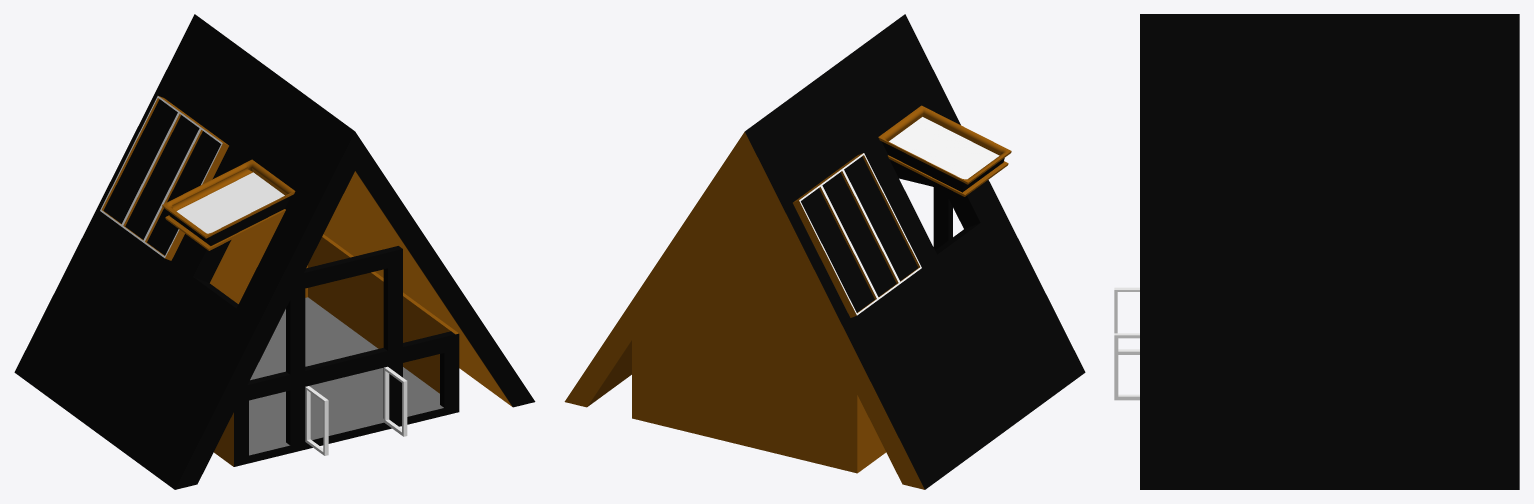
File: cabana.glb
3 renders of one model, left to right at view 1: azimuth 30°, elevation 25°; view 2: azimuth 150°, elevation 25°; view 3: azimuth 270°, elevation 25°, orthographic. The views are drawn at different scales.
Bounding box in the file's own units: 48 × 40 × 39.5.
